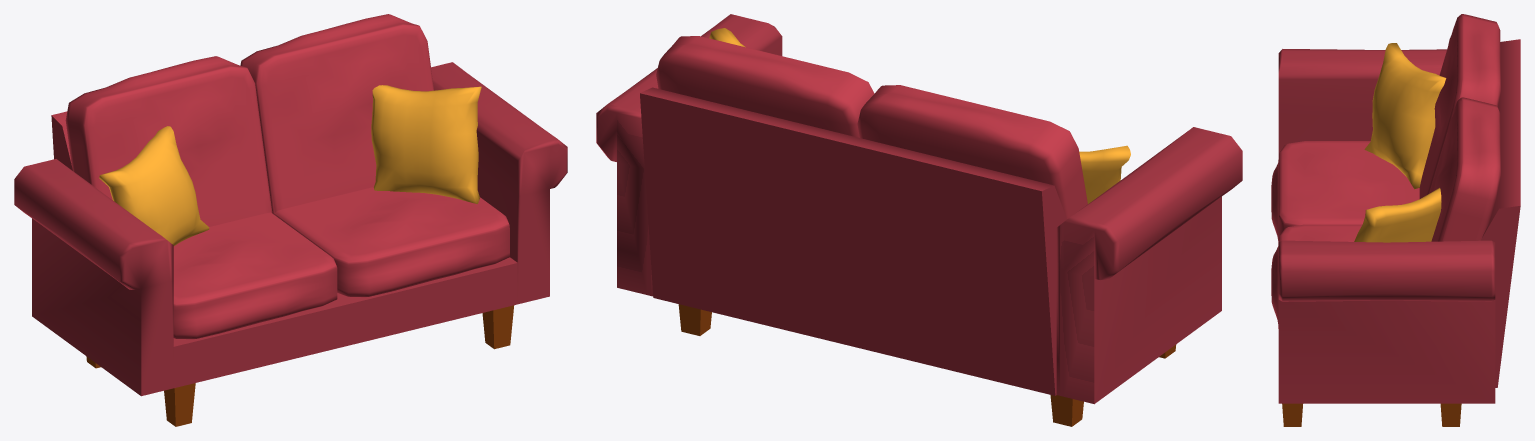
File: geo_2SeaterCouch.fbx
The picture shows the model from 3 angles, left to right: view 1: azimuth 30°, elevation 25°; view 2: azimuth 150°, elevation 25°; view 3: azimuth 270°, elevation 25°; orthographic projection. The views are drawn at different scales.
Parts seen in each view (by area): view 1: pCube44, pCube21, pCube26, pCube43, pCube22, pCube33, pCube34, pCube28, pCube30; view 2: pCube30, pCube21, pCube44, pCube33, pCube28, pCube26; view 3: pCube33, pCube44, pCube21, pCube22, pCube28, pCube30, pCube34, pCube43, pCube26.
Boxes of the visible parts, bbox=[...] form: pCube44: bbox=[65, 14, 433, 226]; pCube21: bbox=[14, 159, 173, 396]; pCube26: bbox=[86, 257, 517, 426]; pCube43: bbox=[273, 187, 509, 297]; pCube22: bbox=[173, 212, 337, 339]; pCube33: bbox=[431, 62, 567, 304]; pCube34: bbox=[371, 85, 481, 203]; pCube28: bbox=[99, 126, 209, 245]; pCube30: bbox=[51, 111, 72, 170]; pCube30: bbox=[640, 87, 1066, 395]; pCube21: bbox=[1056, 127, 1242, 404]; pCube44: bbox=[656, 36, 1087, 219]; pCube33: bbox=[596, 14, 782, 296]; pCube28: bbox=[1079, 145, 1130, 203]; pCube26: bbox=[678, 304, 1176, 426]; pCube33: bbox=[1278, 240, 1495, 403]; pCube44: bbox=[1419, 14, 1500, 241]; pCube21: bbox=[1278, 49, 1446, 153]; pCube22: bbox=[1271, 141, 1419, 242]; pCube28: bbox=[1364, 43, 1446, 189]; pCube30: bbox=[1481, 39, 1520, 387]; pCube34: bbox=[1354, 187, 1441, 242]; pCube43: bbox=[1271, 224, 1361, 328]; pCube26: bbox=[1282, 403, 1461, 426].
Size of the model in its own units: 177 by 97.99 by 85.85.
Materials: 1 (1 with a texture image).
